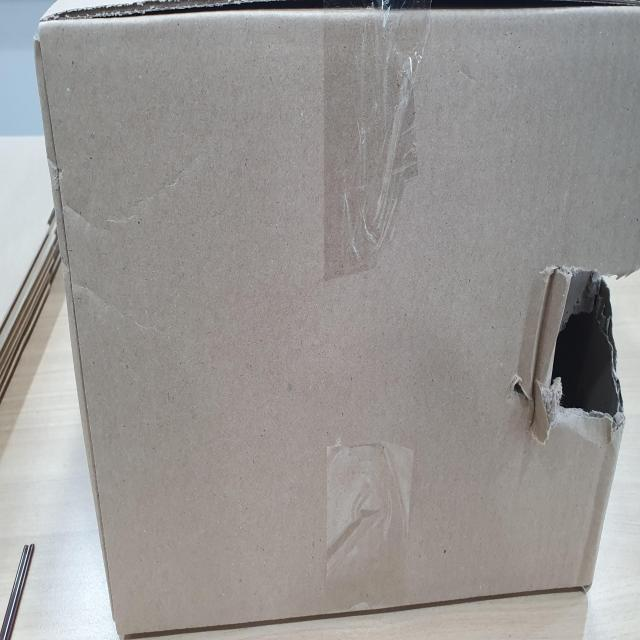damaged: (531, 252, 633, 449)
